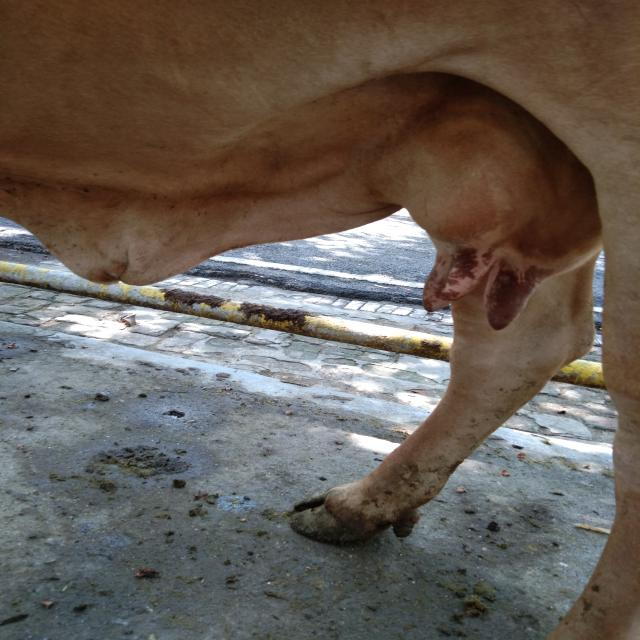Hoof: (289, 484, 420, 545)
